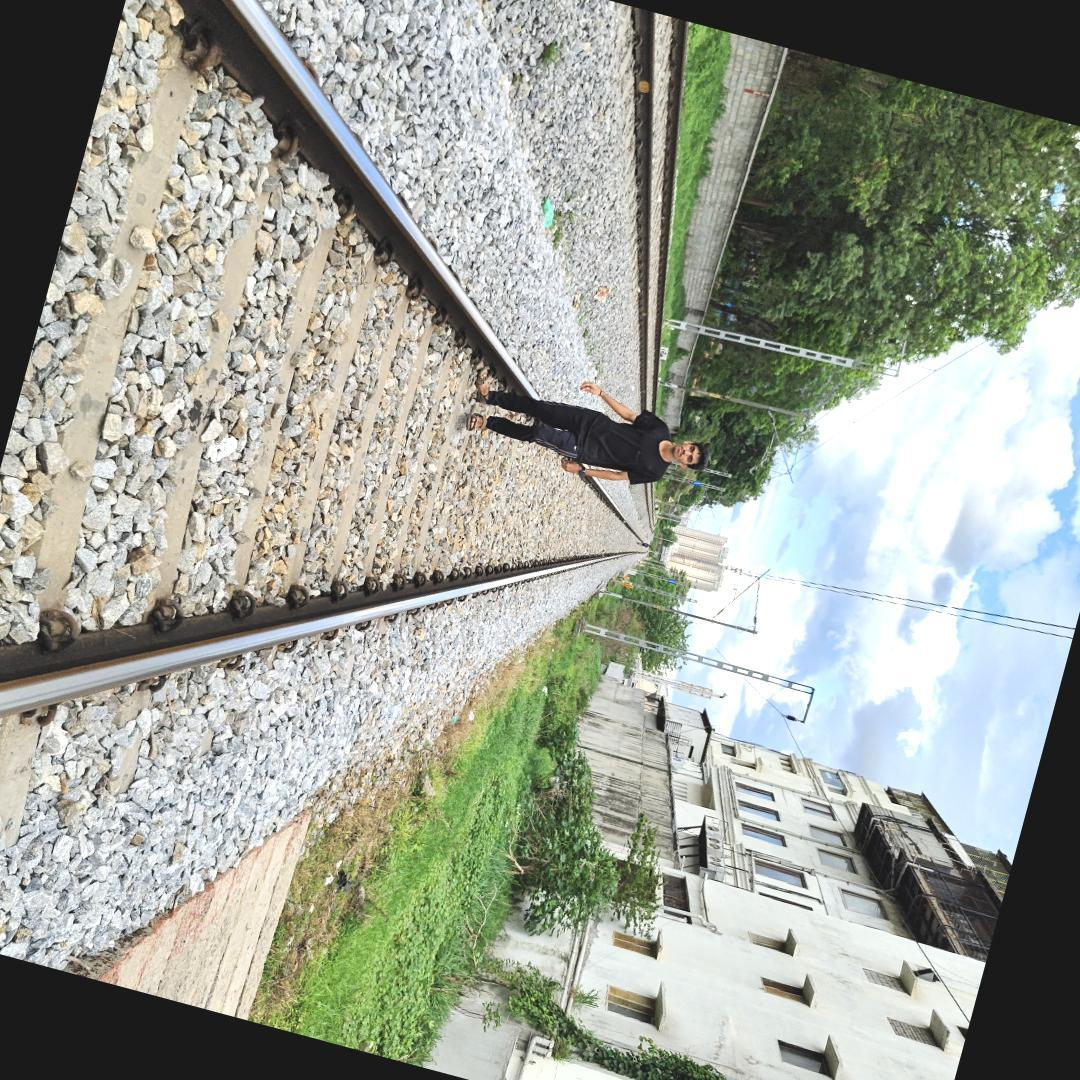standing: (448, 359, 724, 513)
